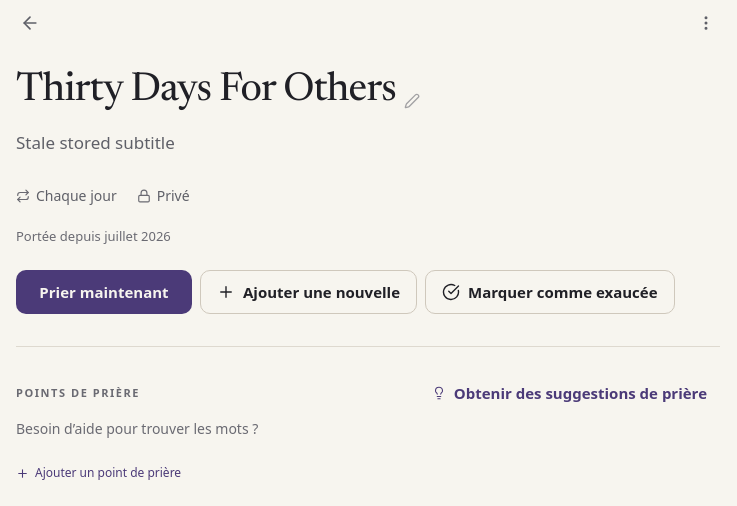
a plan run shows the plan’s own words, in the reader’s language › an ordinary prayer keeps its own title, editable in place
This screenshot has width=737, height=506.
What coordinates should you click on to do the following:
click the text "Thirty Days For Others"
I would click on:
 (206, 91)
Its box is [16,69,396,113].
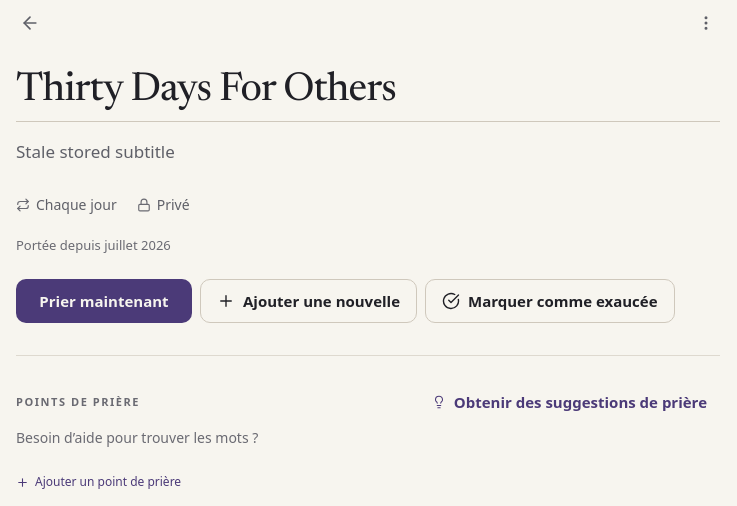
Expected: the field named "Modifier cette prière" is shown, [16,69,720,122]
